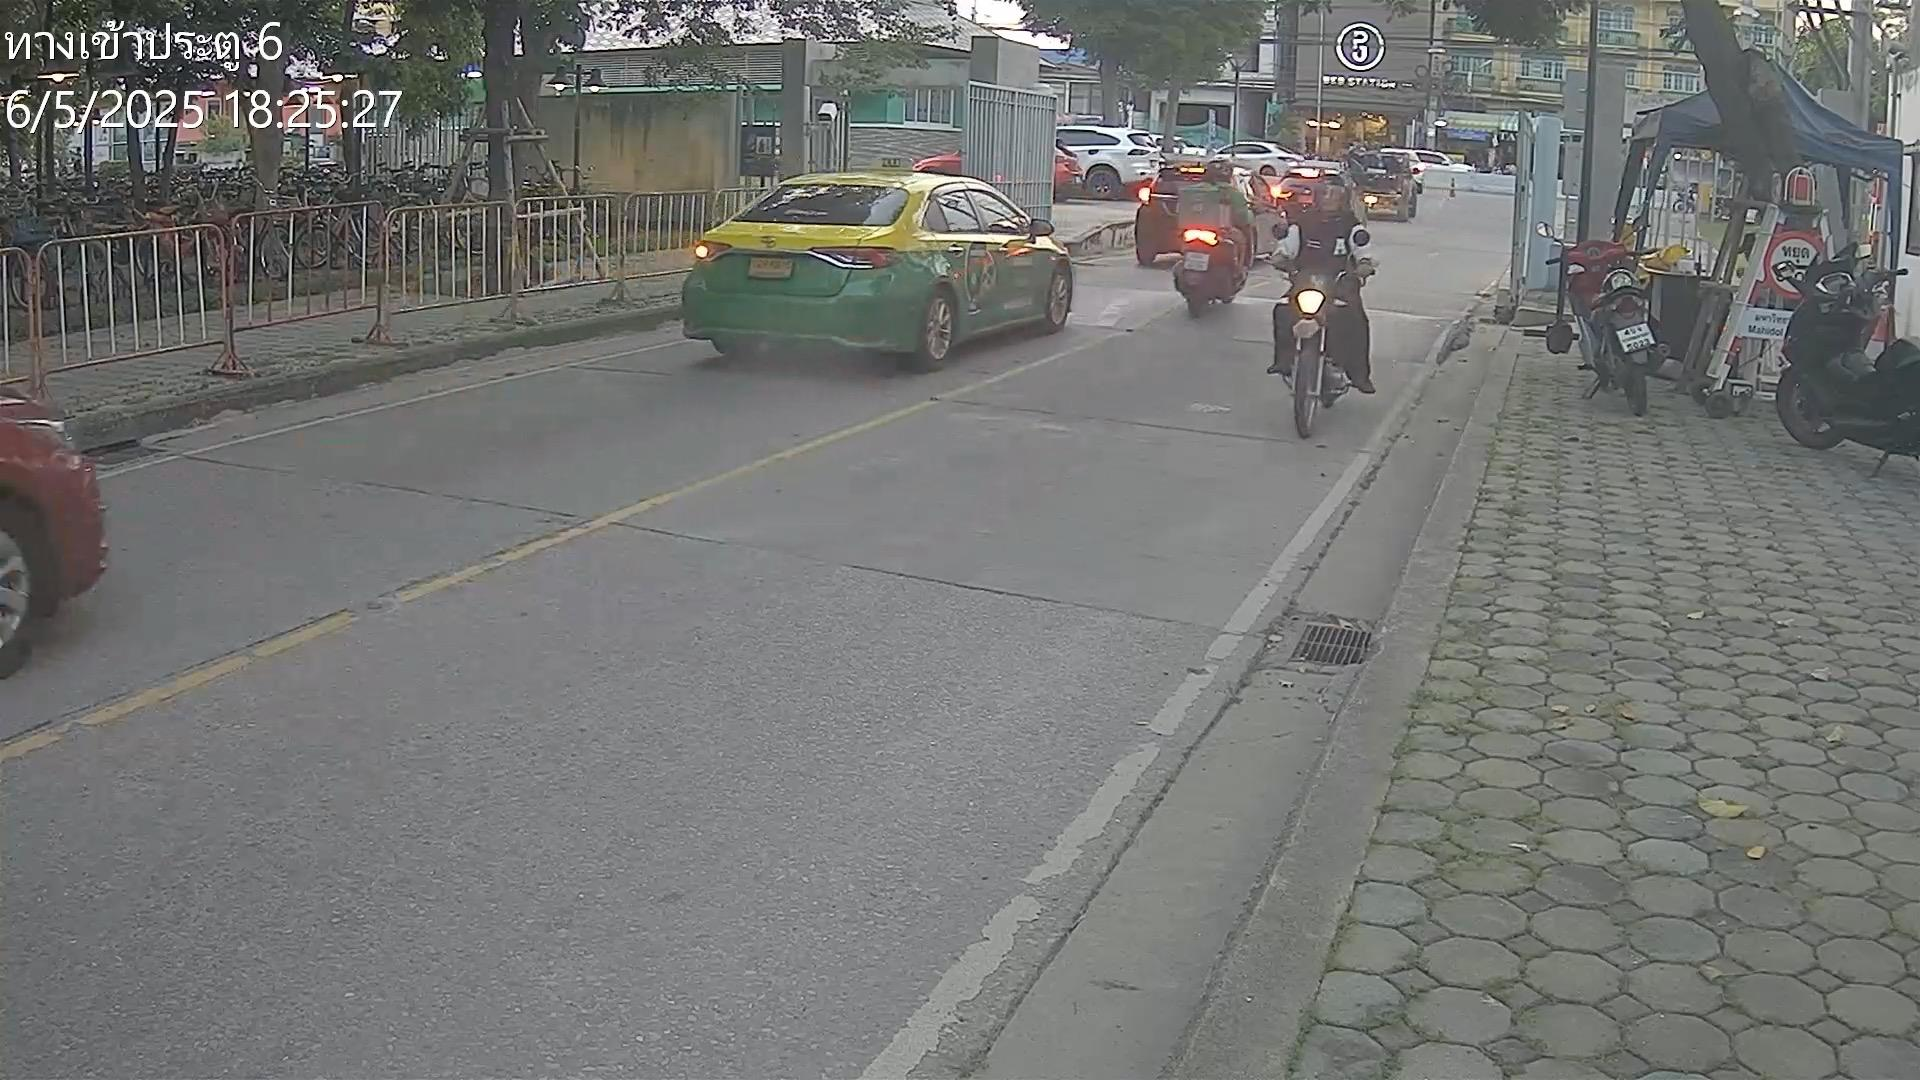With-Helmet: (1313, 174, 1348, 210), (1207, 156, 1234, 181)
